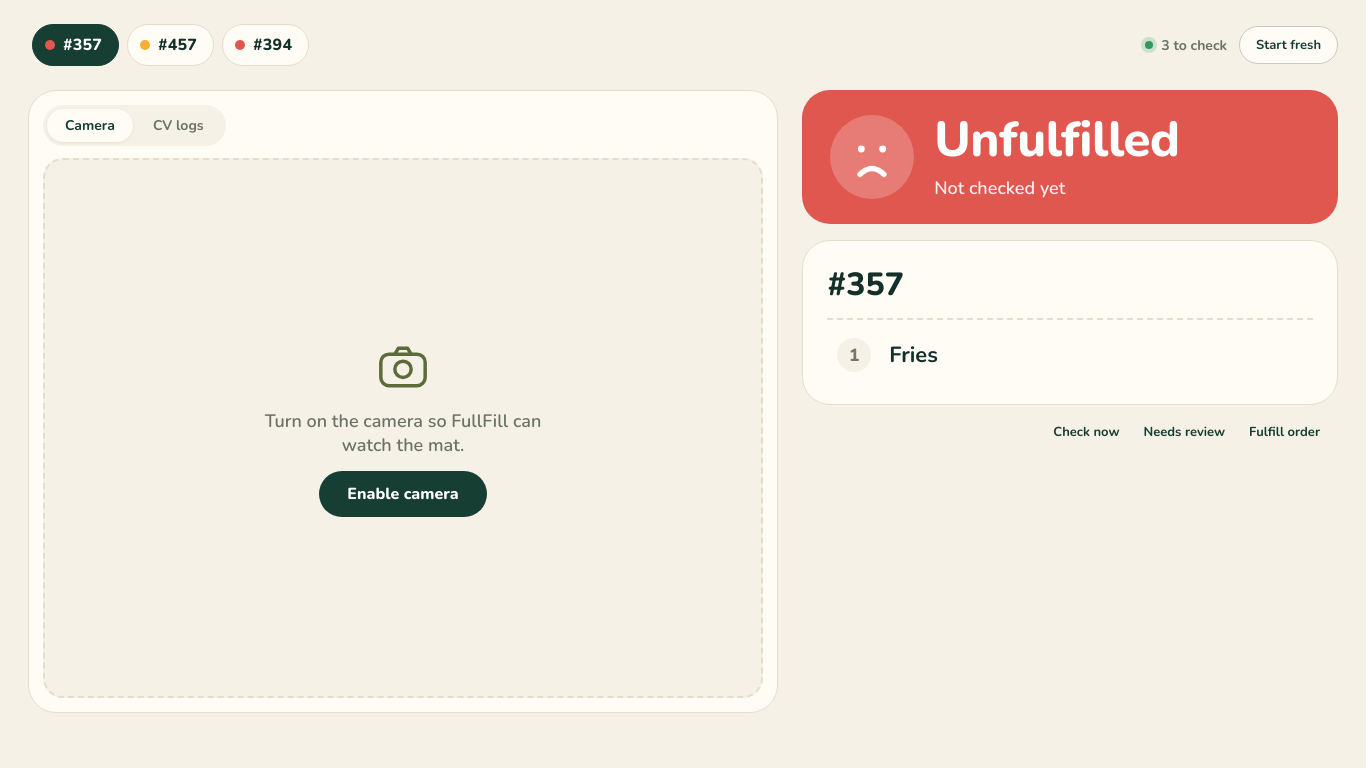
Test: a stale Undo cannot overwrite another worker's newer decision
The width and height of the screenshot is (1366, 768).
Step 1. Click the button "Fulfill order" → [1285, 432], box [1239,417,1330,447]
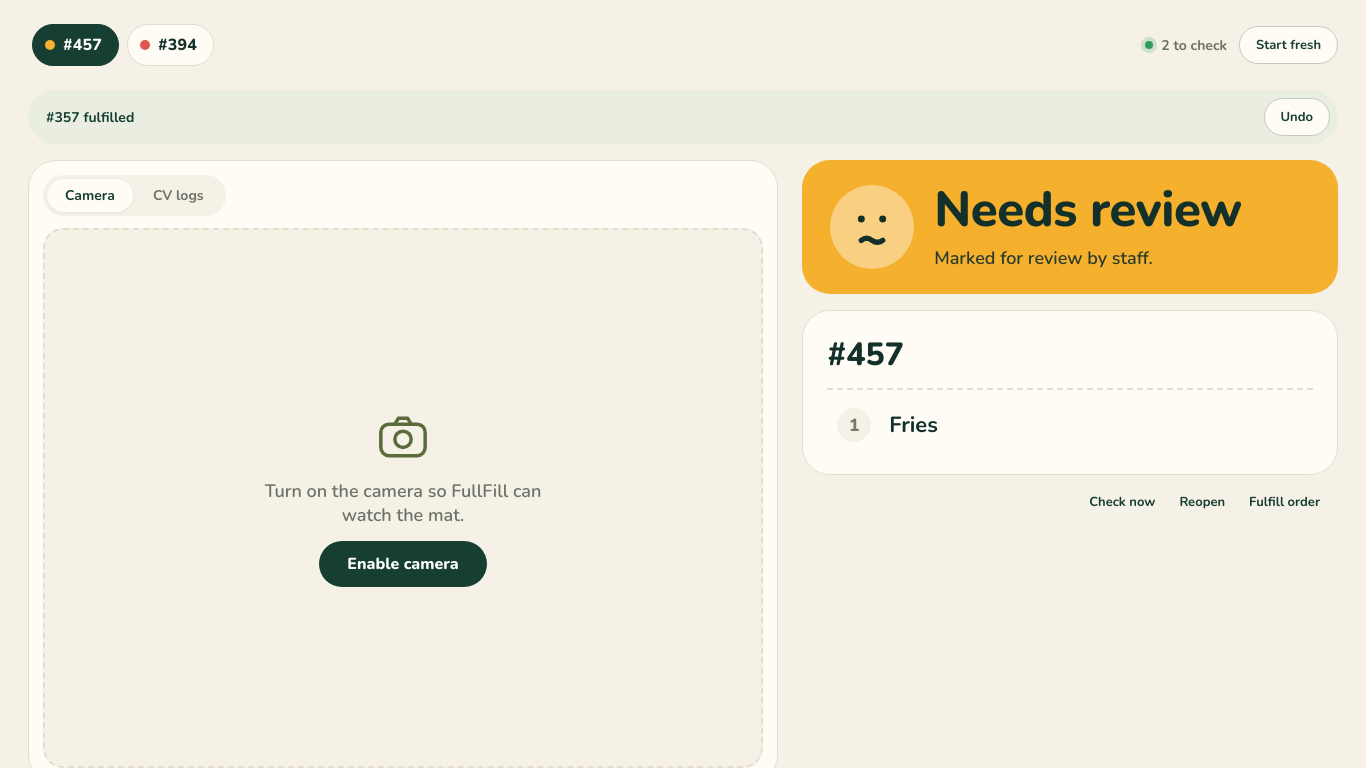
Now the button "Undo" is shown
Step 2. Click the button "Undo" → [1297, 117], box [1264,98,1330,136]
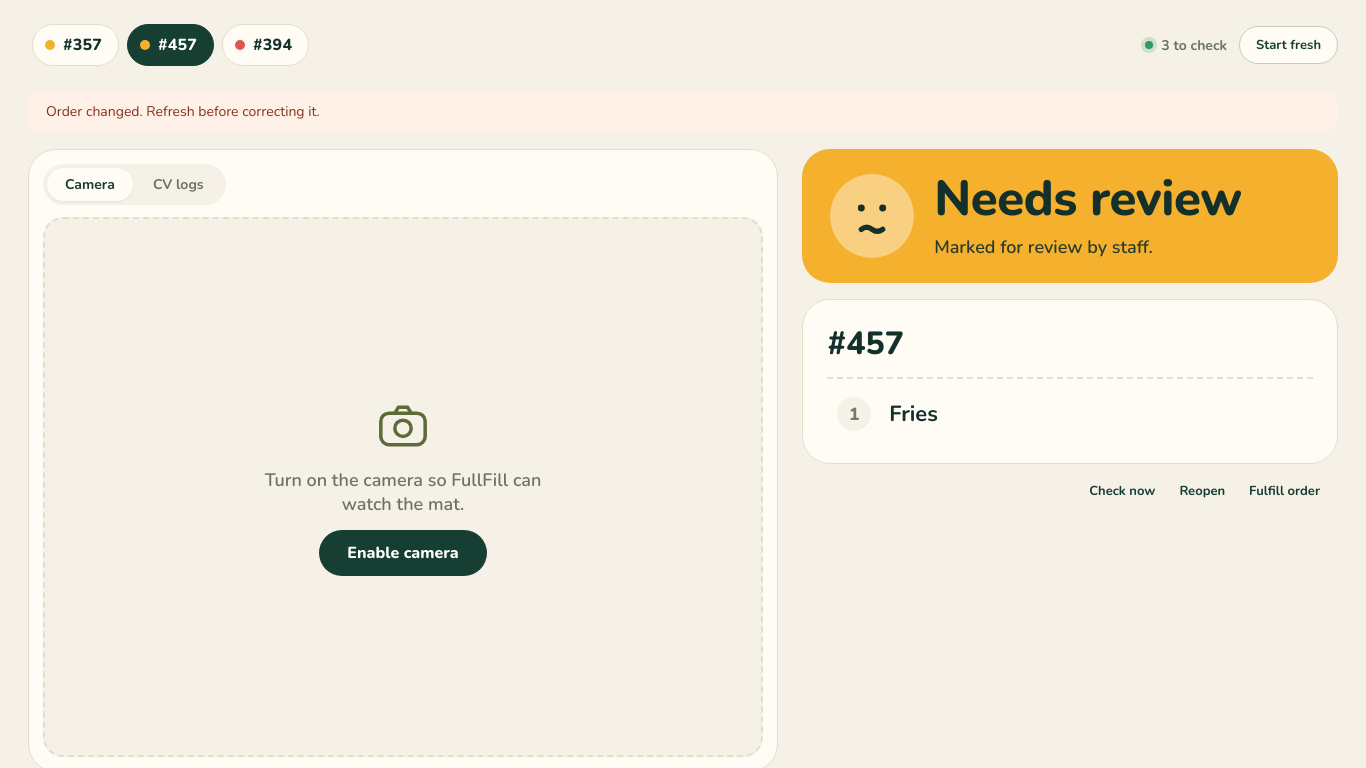
Now the message "Order changed. Refresh before correcting it." is shown, box [28,90,1338,133]
